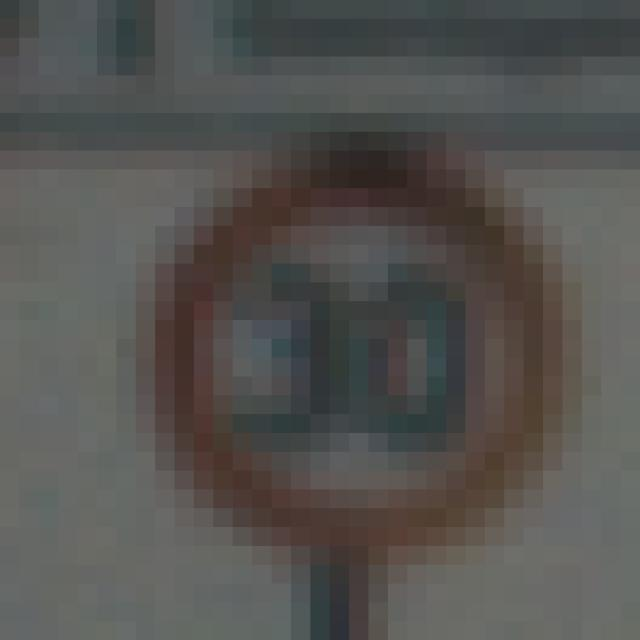Speed Limit -30-: (87, 104, 514, 536)
